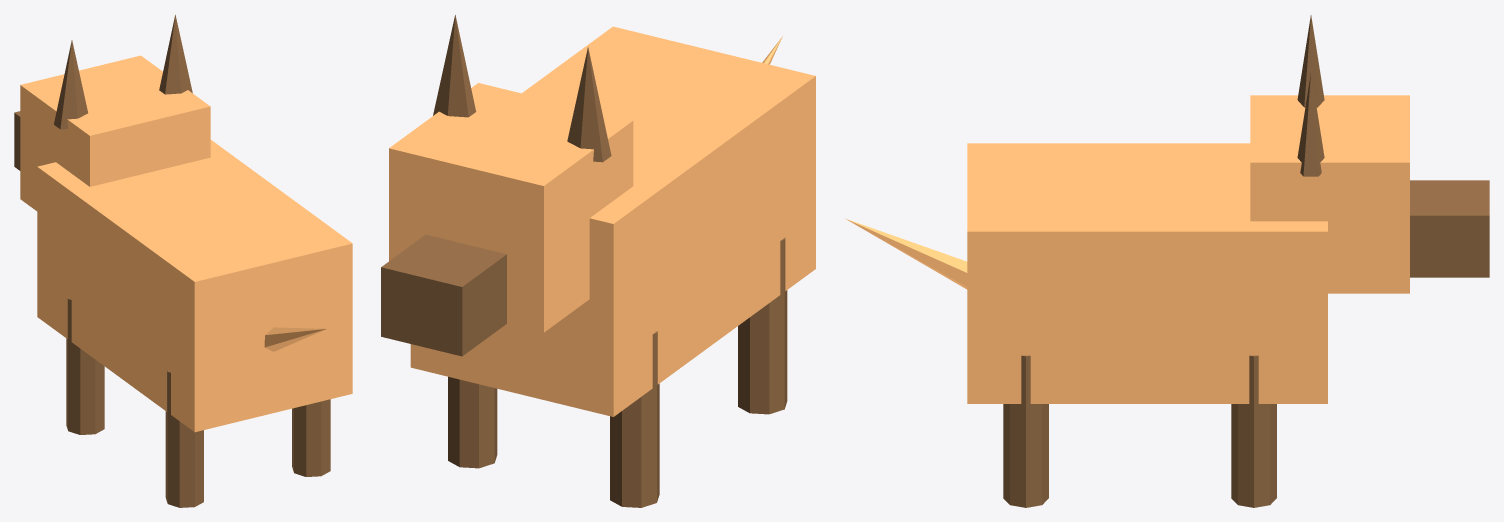
The model's file is fox.glb.
3 views of the same model, side by side, from view 1: azimuth 30°, elevation 25°; view 2: azimuth 150°, elevation 25°; view 3: azimuth 270°, elevation 25° (orthographic). The views are drawn at different scales.
Visible parts, largest first — view 1: fox; view 2: fox; view 3: fox.
Boxes of the visible parts, x1,y1,x2,y2 form: fox: (14, 14, 352, 507); fox: (381, 15, 815, 507); fox: (845, 15, 1489, 507).
Bounding box in the file's own units: 0.56 × 1.22 × 1.7.
